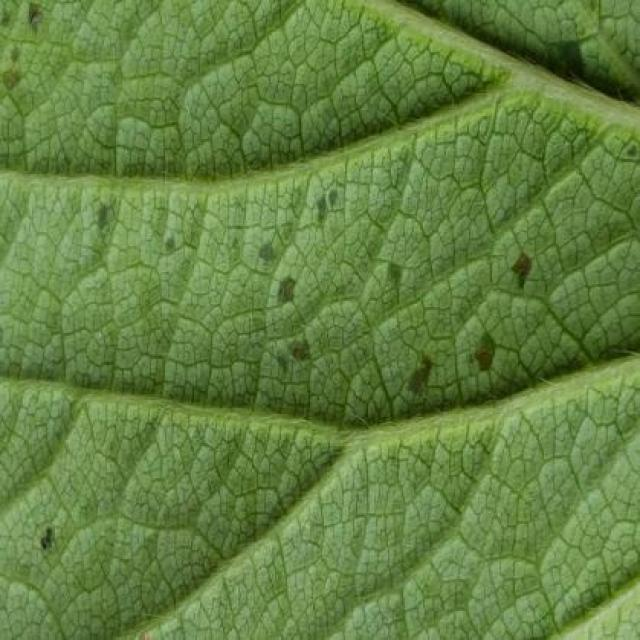Angular Leafspot: (22, 508, 74, 571)
